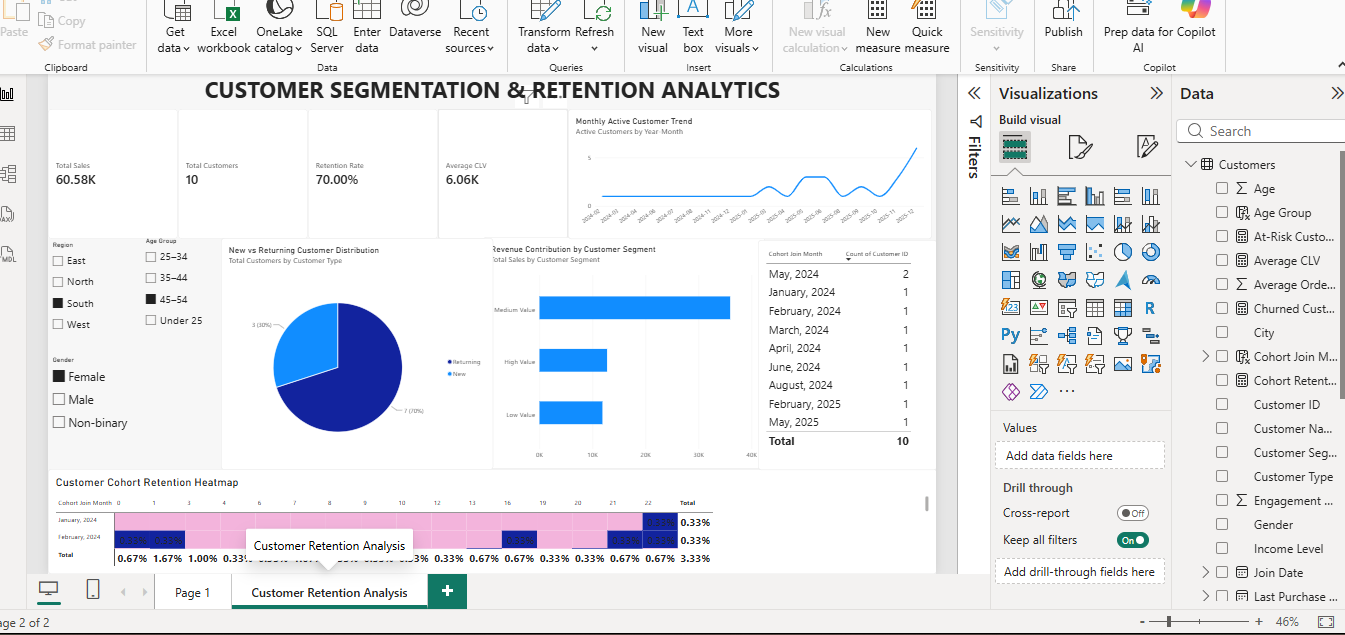

The page's visual inventory and layout, read from the dashboard file:
{"tool":"powerbi","page":{"name":"Customer Retention Analysis","canvas":[1920,1080],"ordinal":1},"visuals":[{"type":"cardVisual","fields":{"Data":["Transactions.Total Sales"]},"box":[0,75.6,280,280],"z":0},{"type":"cardVisual","fields":{"Data":["Customers.Total Customers"]},"box":[280.8,75.6,280,280],"z":1000},{"type":"cardVisual","fields":{"Data":["Customers.Retention Rate"]},"box":[561.6,75.6,280,280],"z":2000},{"type":"cardVisual","fields":{"Data":["Customers.Average CLV"]},"box":[842.4,75.6,280.8,280.8],"z":3000},{"type":"clusteredBarChart","title":"Revenue Contribution by Customer Segment","fields":{"Category":["Customers.Customer Segment"],"Y":["Transactions.Total Sales"]},"box":[939.6,352.1,609.1,501.1],"z":4000},{"type":"lineChart","title":"Monthly Active Customer Trend","fields":{"Category":["DateTable.Year-Month"],"Y":["Transactions.Active Customers"]},"box":[1123.2,75.6,786.2,280.8],"z":5000},{"type":"pieChart","title":"New vs Returning Customer Distribution","fields":{"Category":["Customers.Customer Type"],"Y":["Customers.Total Customers"]},"box":[373.7,354.2,587.5,501.1],"z":6000},{"type":"slicer","fields":{"Values":["Customers.Region"]},"box":[2.2,360.7,166.3,248.4],"z":7000},{"type":"slicer","fields":{"Values":["Customers.Age Group"]},"box":[203,352.1,153.4,257],"z":8000},{"type":"slicer","fields":{"Values":["Customers.Gender"]},"box":[2.2,609.1,250.6,224.6],"z":9000},{"type":"pivotTable","title":"Customer Cohort Retention Heatmap","fields":{"Columns":["Transactions.Months Since Join"],"Rows":["Customers.Cohort Join Month"],"Values":["Customers.Cohort Retention Rate"]},"box":[0,853.2,1920.2,226.8],"z":10000},{"type":"textbox","box":[0,0,1920.2,75.6],"z":11000},{"type":"tableEx","fields":{"Values":["Customers.Cohort Join Month","Customers.Customer ID"]},"box":[1533.6,358.6,386.6,496.8],"z":11001}]}

Visuals, with their boxes on the page's 1920x1080 design canvas (x1, y1, x2, y2). These are canvas units, not pixel positions in the 1345x635 screenshot, which may show the page scaled, cropped or inside an application window:
cardVisual - Transactions.Total Sales: <box>0,76,280,356</box>
cardVisual - Customers.Total Customers: <box>281,76,561,356</box>
cardVisual - Customers.Retention Rate: <box>562,76,842,356</box>
cardVisual - Customers.Average CLV: <box>842,76,1123,356</box>
"Revenue Contribution by Customer Segment" clusteredBarChart: <box>940,352,1549,853</box>
"Monthly Active Customer Trend" lineChart: <box>1123,76,1909,356</box>
"New vs Returning Customer Distribution" pieChart: <box>374,354,961,855</box>
slicer - Customers.Region: <box>2,361,168,609</box>
slicer - Customers.Age Group: <box>203,352,356,609</box>
slicer - Customers.Gender: <box>2,609,253,834</box>
"Customer Cohort Retention Heatmap" pivotTable: <box>0,853,1920,1080</box>
textbox: <box>0,0,1920,76</box>
tableEx - Customers.Cohort Join Month x Customers.Customer ID: <box>1534,359,1920,855</box>
